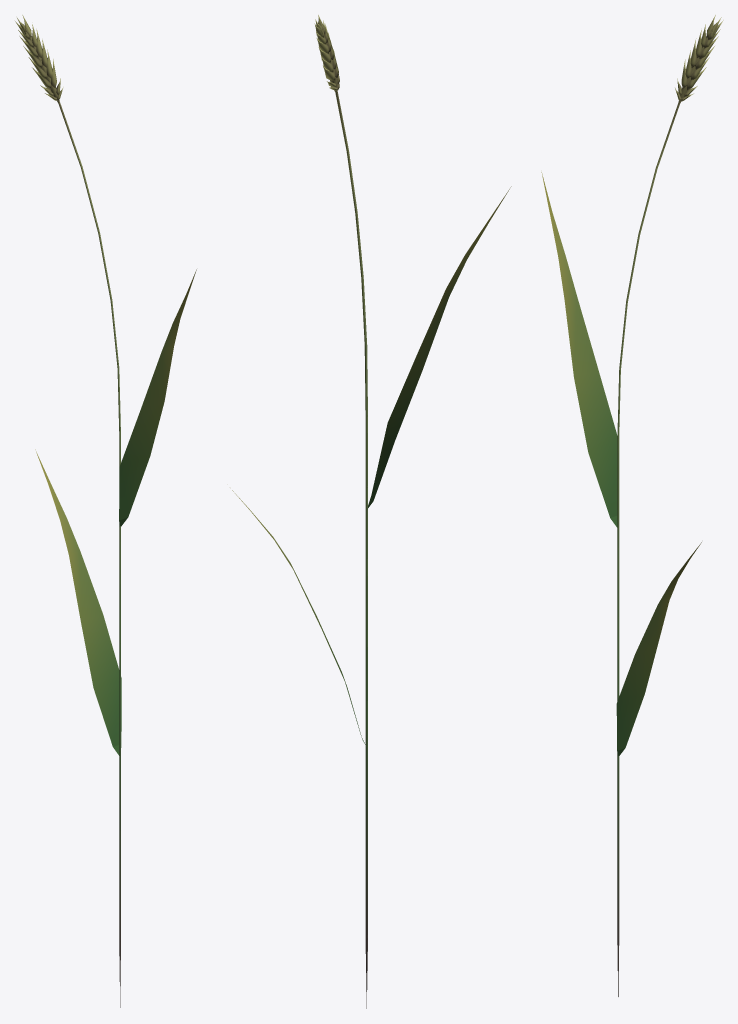
The model's file is trees-grasses-grass-stalk_v5.fbx.
The picture shows the model from 3 angles, left to right: view 1: azimuth 90°, elevation 25°; view 2: azimuth 150°, elevation 25°; view 3: azimuth 270°, elevation 25°; orthographic projection. The views are drawn at different scales.
Parts seen in each view (by area): view 1: Grass Stalk_v5; view 2: Grass Stalk_v5; view 3: Grass Stalk_v5.
Boxes of the visible parts, x1,y1,x2,y2 form: Grass Stalk_v5: (15, 15, 196, 1007); Grass Stalk_v5: (232, 15, 511, 1008); Grass Stalk_v5: (541, 15, 723, 996).
Bounding box in the file's own units: 0.1636 × 0.8 × 0.1333.
